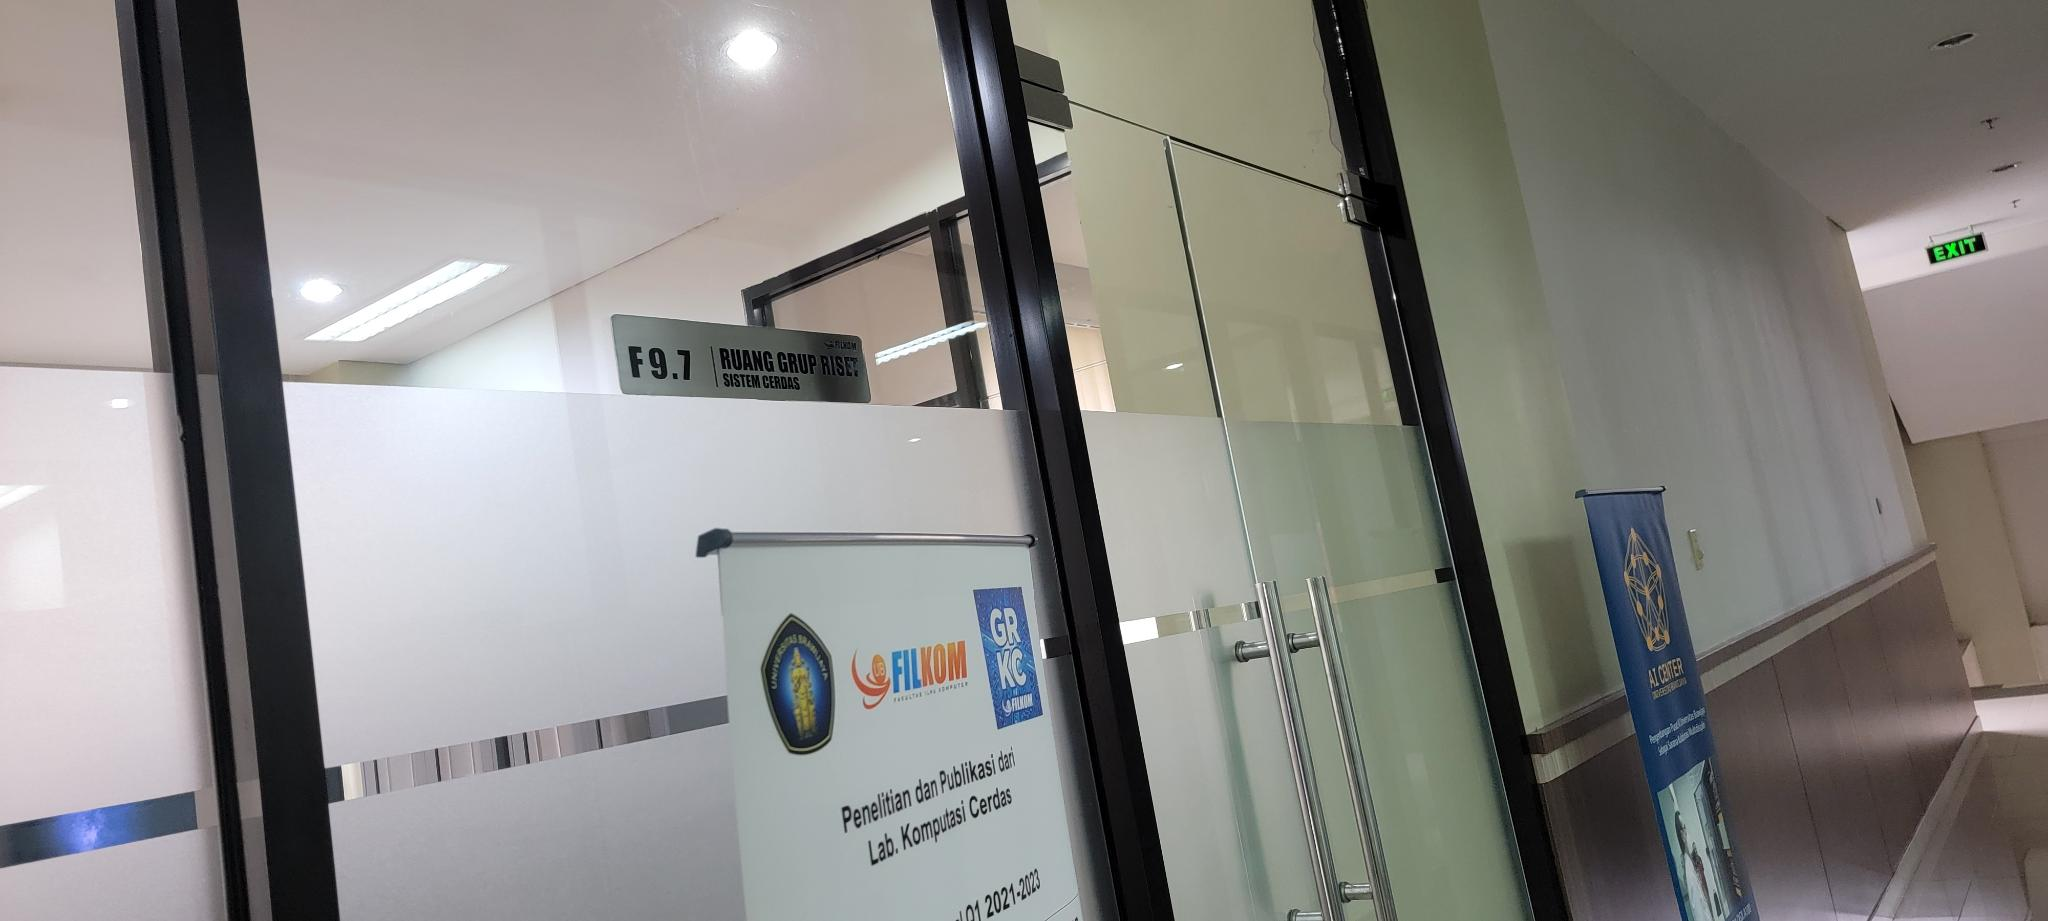plate: (614, 314, 871, 405)
